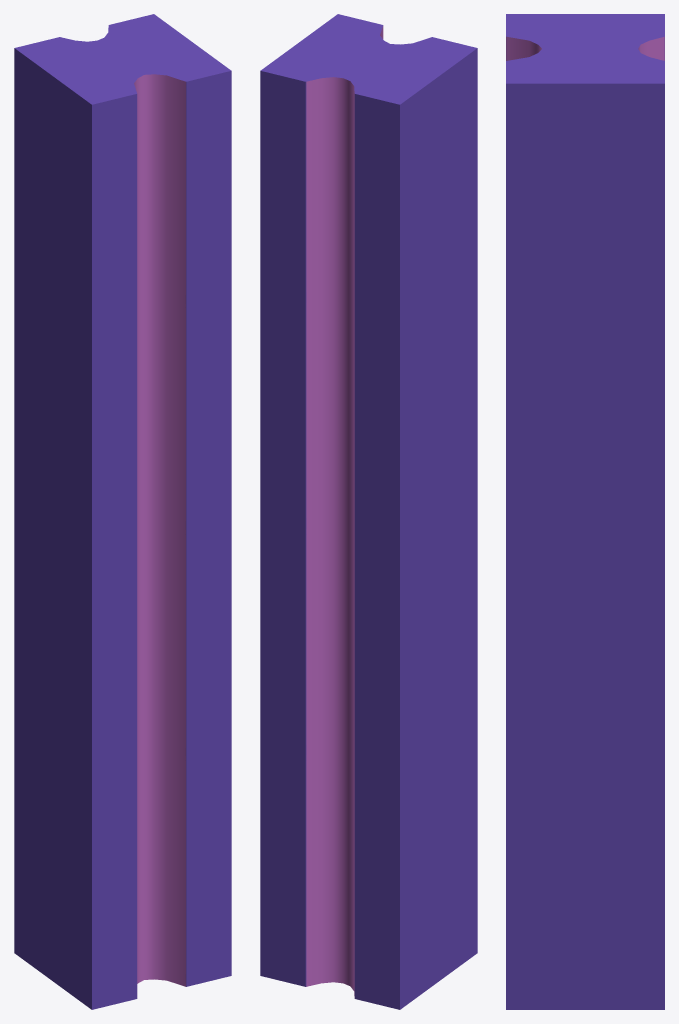
File: M_Pliar02.fbx
3 views of the same model, side by side, from view 1: azimuth 30°, elevation 25°; view 2: azimuth 150°, elevation 25°; view 3: azimuth 270°, elevation 25° (orthographic). The views are drawn at different scales.
Parts seen in each view (by area): view 1: pliar02; view 2: pliar02; view 3: pliar02.
Part boxes in pixels (left/top/right/bottom): pliar02: left=14, top=14, right=231, bottom=1009; pliar02: left=260, top=14, right=477, bottom=1009; pliar02: left=506, top=14, right=664, bottom=1009.
Size of the model in its own units: 123 by 764 by 119.
